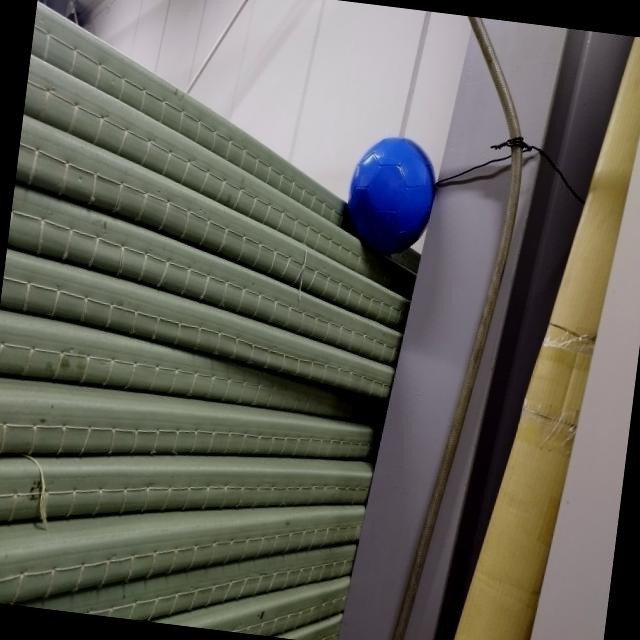blue_ball: (340, 131, 444, 261)
